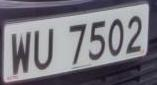0: (106, 12, 126, 60)
2: (126, 13, 145, 56)
5: (88, 16, 108, 66)
7: (66, 19, 90, 70)
U: (31, 26, 58, 75)
W: (8, 28, 34, 79)
